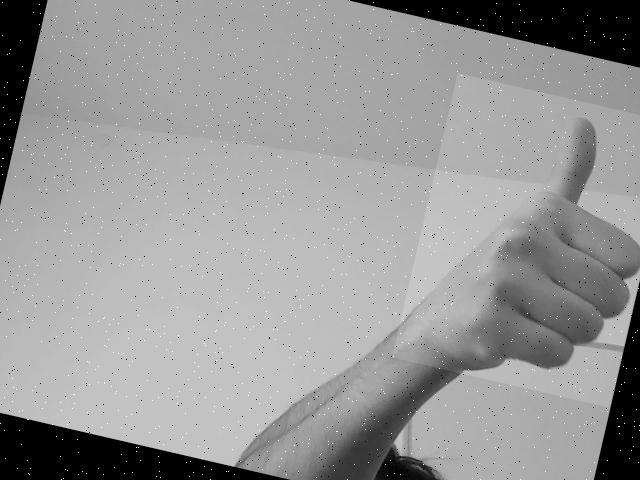good: (401, 102, 640, 378)
